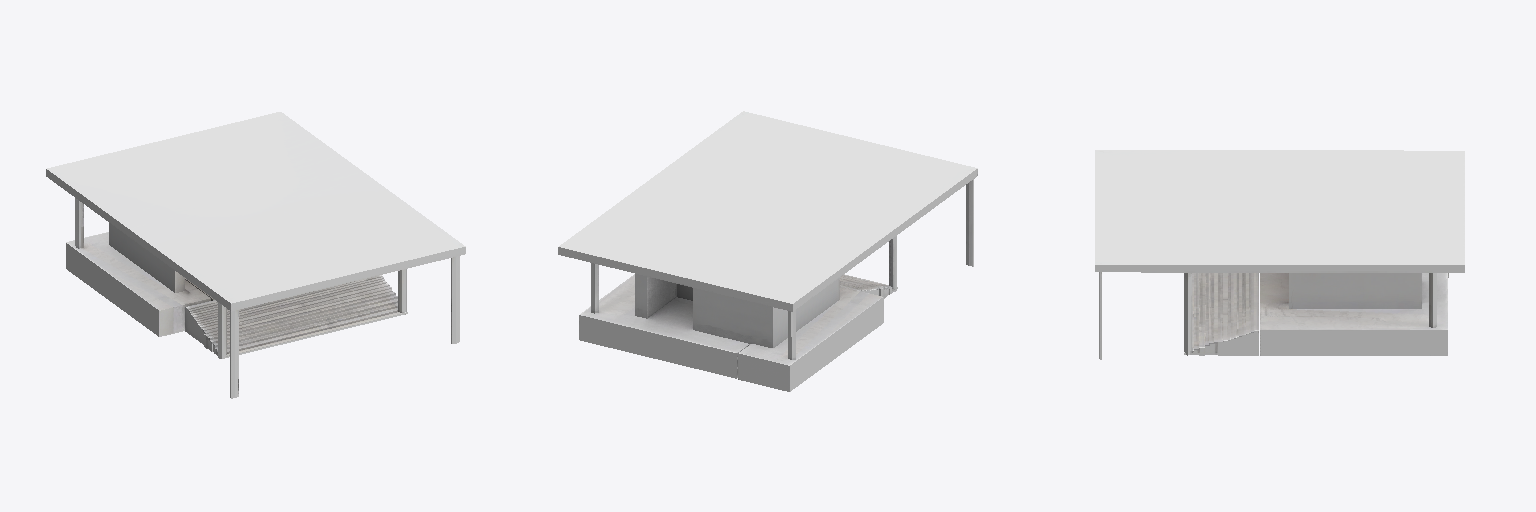
3 renders of one model, left to right at view 1: azimuth 30°, elevation 25°; view 2: azimuth 150°, elevation 25°; view 3: azimuth 270°, elevation 25°, orthographic.
Parts seen in each view (by area): view 1: model; view 2: model; view 3: model.
Part boxes in pixels (left/top/right/bottom): model: left=46, top=112, right=465, bottom=398; model: left=558, top=111, right=977, bottom=391; model: left=1095, top=150, right=1464, bottom=359.
Size of the model in its own units: 1.46 by 0.5796 by 2.
Materials: 1 (1 with a texture image).